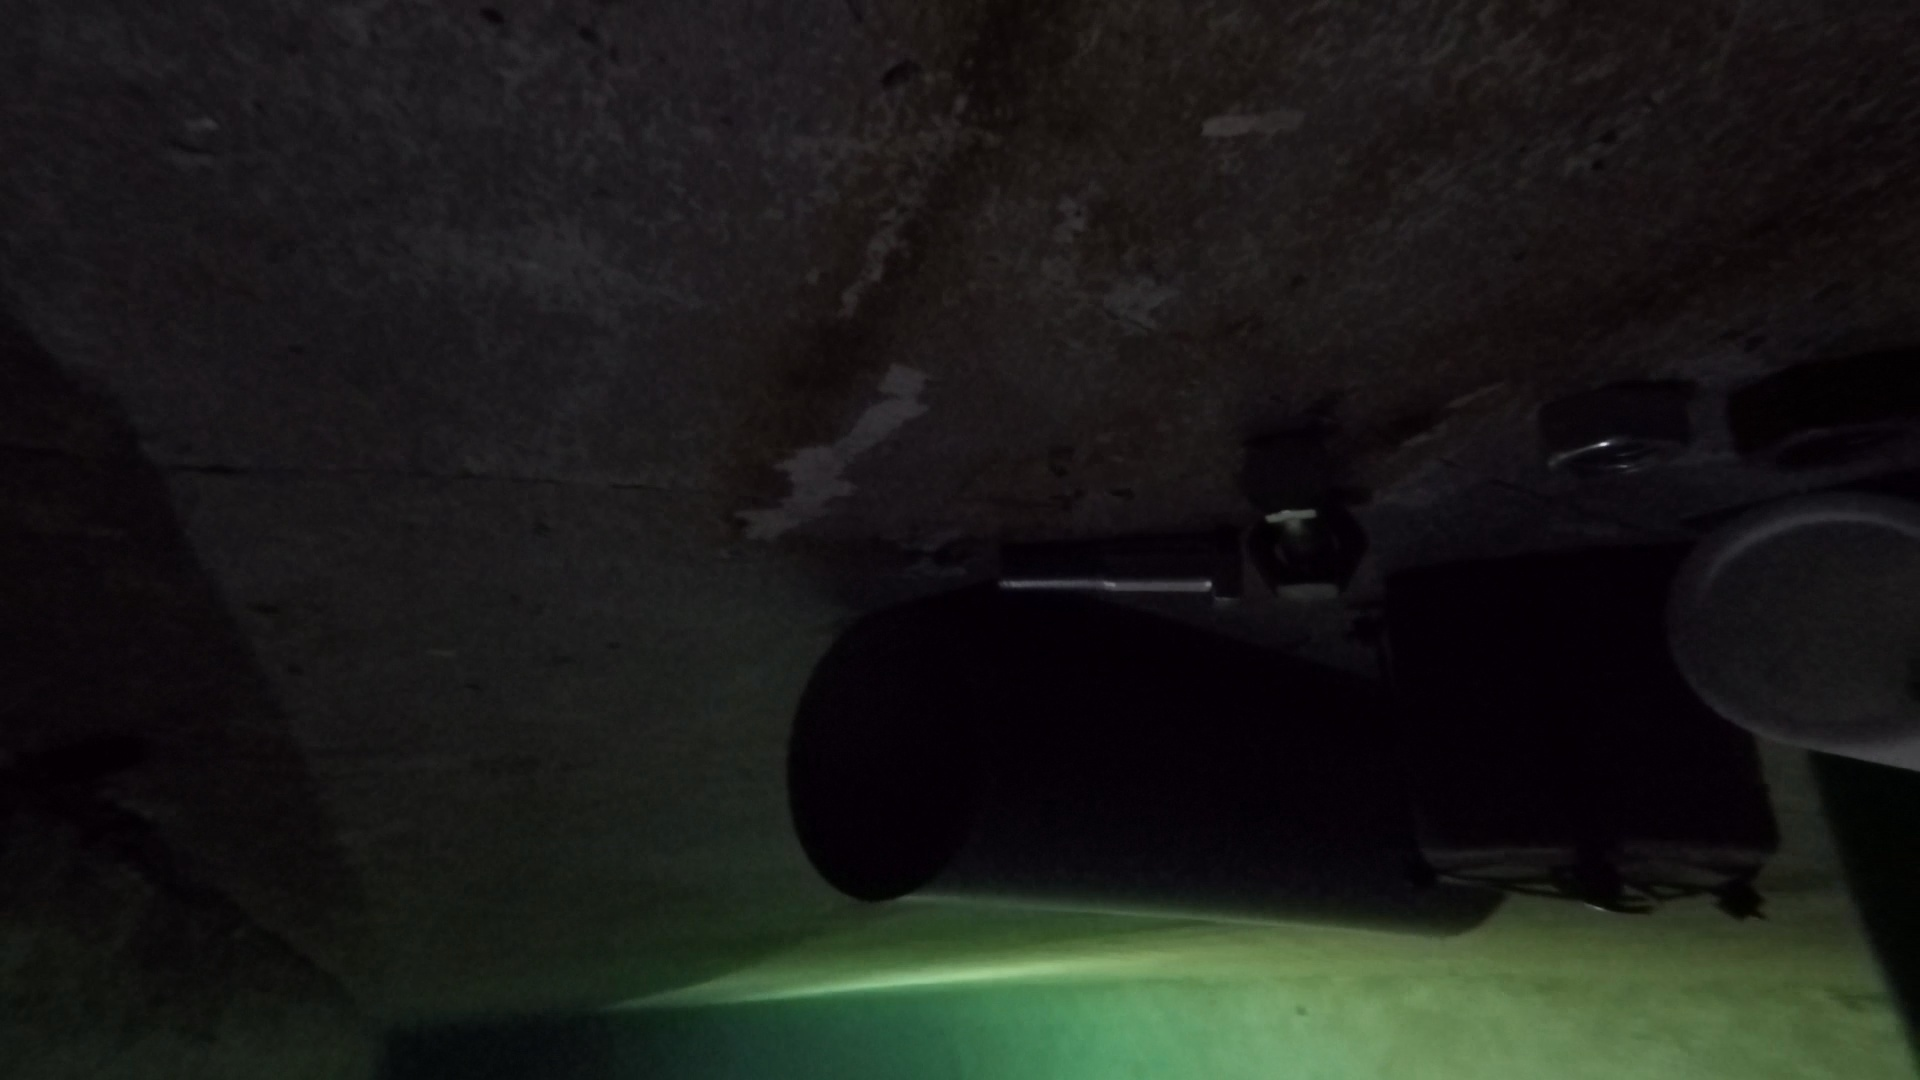bolt: (1240, 439, 1360, 611), (996, 537, 1247, 607)
led_block: (1387, 541, 1776, 920)
nut: (1724, 355, 1892, 477), (1538, 389, 1695, 489)
pipe: (786, 600, 1429, 918), (1660, 489, 1920, 771)
